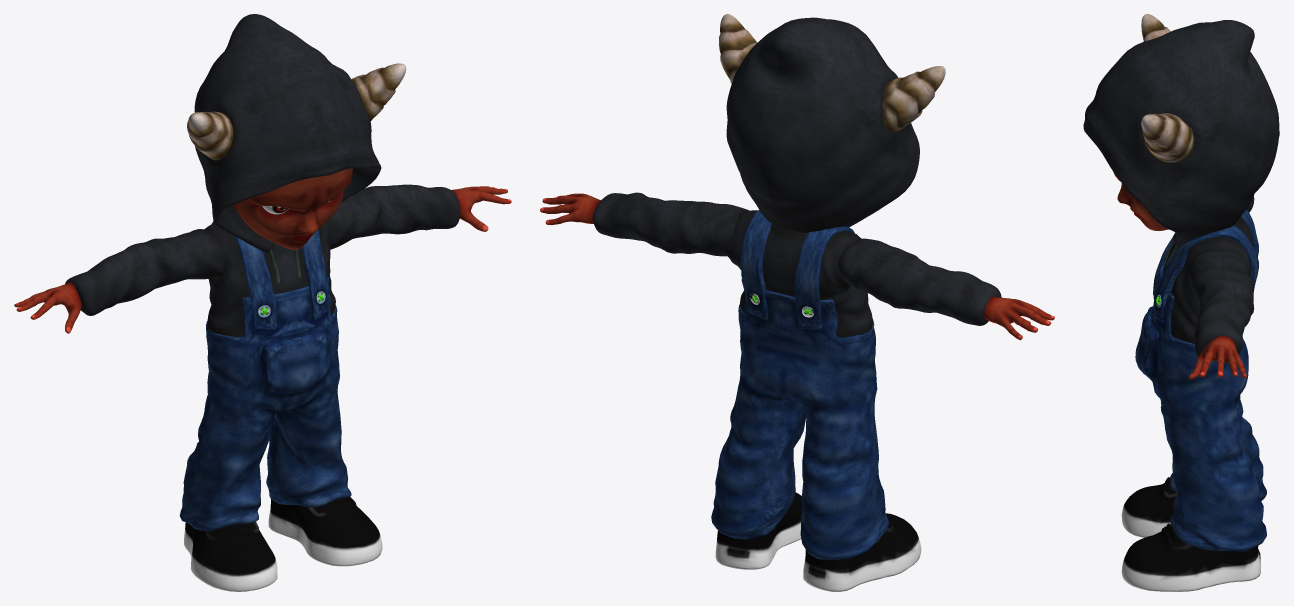
The model's file is diablito.gltf.
3 renders of one model, left to right at view 1: azimuth 30°, elevation 25°; view 2: azimuth 150°, elevation 25°; view 3: azimuth 270°, elevation 25°, orthographic. The views are drawn at different scales.
Parts seen in each view (by area): view 1: diablitotaller_merge_pintado_20, diablitotaller_merge_pintado_5, diablitotaller_merge_pintado_subdividido1, diablitotaller_merge_pintado_15, diablitotaller_merge_pintado_9, diablitotaller_merge_pintado_7, diablitotaller_merge_pintado_11, diablitotaller_merge_pintado_subdividido1_1_nuevo; view 2: diablitotaller_merge_pintado_20, diablitotaller_merge_pintado_5, diablitotaller_merge_pintado_subdividido1, diablitotaller_merge_pintado_15, diablitotaller_merge_pintado_7, diablitotaller_merge_pintado_11, diablitotaller_merge_pintado_subdividido1_1_nuevo; view 3: diablitotaller_merge_pintado_5, diablitotaller_merge_pintado_20, diablitotaller_merge_pintado_15, diablitotaller_merge_pintado_subdividido1, diablitotaller_merge_pintado_7, diablitotaller_merge_pintado_11, diablitotaller_merge_pintado_subdividido1_1_nuevo, diablitotaller_merge_pintado_9.
Boxes of the visible parts, bbox=[...] form: diablitotaller_merge_pintado_20: bbox=[179, 221, 351, 530]; diablitotaller_merge_pintado_5: bbox=[194, 14, 381, 253]; diablitotaller_merge_pintado_subdividido1: bbox=[65, 184, 460, 315]; diablitotaller_merge_pintado_15: bbox=[184, 497, 382, 591]; diablitotaller_merge_pintado_9: bbox=[233, 168, 352, 249]; diablitotaller_merge_pintado_7: bbox=[204, 222, 335, 337]; diablitotaller_merge_pintado_11: bbox=[187, 63, 406, 160]; diablitotaller_merge_pintado_subdividido1_1_nuevo: bbox=[14, 186, 511, 333]; diablitotaller_merge_pintado_20: bbox=[711, 210, 888, 559]; diablitotaller_merge_pintado_5: bbox=[726, 17, 919, 232]; diablitotaller_merge_pintado_subdividido1: bbox=[592, 192, 1001, 325]; diablitotaller_merge_pintado_15: bbox=[715, 492, 921, 591]; diablitotaller_merge_pintado_7: bbox=[724, 210, 872, 337]; diablitotaller_merge_pintado_11: bbox=[719, 14, 945, 131]; diablitotaller_merge_pintado_subdividido1_1_nuevo: bbox=[540, 193, 1054, 340]; diablitotaller_merge_pintado_5: bbox=[1083, 20, 1279, 246]; diablitotaller_merge_pintado_20: bbox=[1135, 209, 1266, 551]; diablitotaller_merge_pintado_15: bbox=[1121, 477, 1260, 591]; diablitotaller_merge_pintado_subdividido1: bbox=[1188, 195, 1254, 356]; diablitotaller_merge_pintado_7: bbox=[1163, 217, 1252, 343]; diablitotaller_merge_pintado_11: bbox=[1141, 14, 1194, 162]; diablitotaller_merge_pintado_subdividido1_1_nuevo: bbox=[1188, 335, 1246, 379]; diablitotaller_merge_pintado_9: bbox=[1113, 172, 1168, 230].
Bounding box in the file's own units: 11.32 × 11.53 × 3.88.
11 materials, 11 textured.
